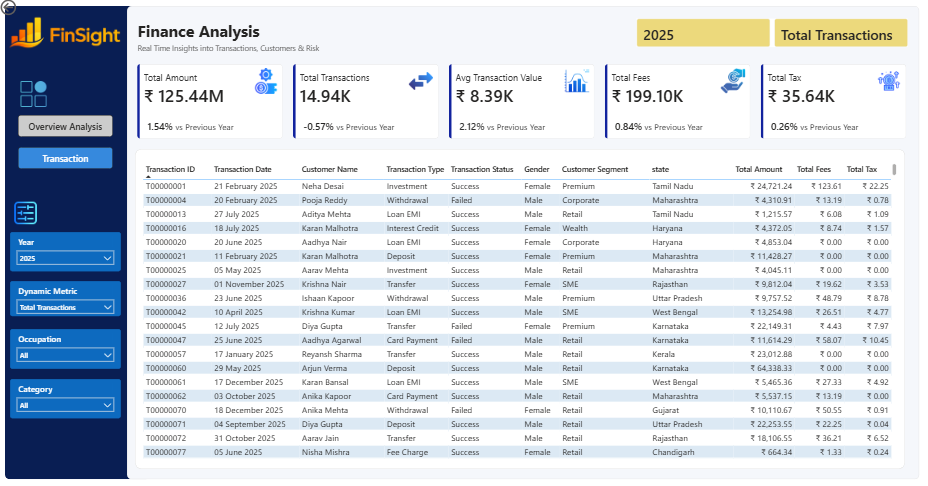

The dashboard page shown, as its layout file describes it:
{"tool":"powerbi","page":{"name":"Transaction","canvas":[1800,950],"ordinal":1},"visuals":[{"type":"shape","box":[14,18,280,914],"z":0},{"type":"shape","box":[250,18,1530,914],"z":1000},{"type":"image","box":[14,18,236,104],"z":2000},{"type":"cardVisual","fields":{"Data":["finance_transactions.Dashboard Title"]},"box":[264,28,404,94],"z":3000},{"type":"cardVisual","fields":{"Data":["finance_transactions.Total Amount","finance_transactions.Total Transactions","finance_transactions.Avg Transaction Value","finance_transactions.Total Fee","finance_transactions.Total Tax"]},"box":[263.5,122.7,1500.3,156.9],"z":4000},{"type":"image","box":[491.7,136.7,50,50],"z":5000},{"type":"image","box":[792.2,136.7,50,50],"z":6000},{"type":"image","box":[1394.1,137.1,50,50],"z":7000},{"type":"image","box":[1695.6,136.7,50,50],"z":8000},{"type":"image","box":[1092.9,137.1,50,50],"z":9000},{"type":"shape","box":[264.5,293.5,1486.8,617.9],"z":10000},{"type":"cardVisual","fields":{"Data":["finance_transactions.Selected Year","finance_transactions.Selected Dynamic Measure"]},"box":[1227.6,36.8,535.5,65.8],"z":11000},{"type":"tableEx","fields":{"Values":["finance_transactions.transaction_id","finance_transactions.transaction_date","customers.customer_name","finance_transactions.transaction_type","finance_transactions.transaction_status","customers.gender","customers.customer_segment","customers.state","finance_transactions.Total Amount","finance_transactions.Total Fees","finance_transactions.Total Tax"]},"box":[274.2,316.7,1465.5,579.3],"z":12000},{"type":"actionButton","box":[0,0,100,40],"z":13000},{"type":"slicer","fields":{"Values":["Calendar Table.Year"]},"box":[23.2,453.8,213.6,76.4],"z":14000},{"type":"slicer","fields":{"Values":["Dynamic Metric.Dynamic Metric"]},"box":[23.2,548.4,214.3,67.6],"z":15000},{"type":"slicer","fields":{"Values":["customers.occupation"]},"box":[23.2,641.1,214.3,77.2],"z":16000},{"type":"slicer","fields":{"Values":["finance_transactions.merchant_category"]},"box":[23.2,737.6,213.6,76.4],"z":17000},{"type":"image","box":[38.6,162.2,59.9,50.2],"z":18000},{"type":"pageNavigator","box":[38.6,227.8,183.4,104.3],"z":19000},{"type":"image","box":[23.2,392,59.9,50.2],"z":20000}]}

Visuals, with their boxes on the page's 1800x950 design canvas (x1, y1, x2, y2). These are canvas units, not pixel positions in the 928x486 screenshot, which may show the page scaled, cropped or inside an application window:
shape: pyautogui.locateOnScreen(14, 18, 294, 932)
shape: pyautogui.locateOnScreen(250, 18, 1780, 932)
image: pyautogui.locateOnScreen(14, 18, 250, 122)
cardVisual - finance_transactions.Dashboard Title: pyautogui.locateOnScreen(264, 28, 668, 122)
cardVisual - finance_transactions.Total Amount x finance_transactions.Total Transactions: pyautogui.locateOnScreen(264, 123, 1764, 280)
image: pyautogui.locateOnScreen(492, 137, 542, 187)
image: pyautogui.locateOnScreen(792, 137, 842, 187)
image: pyautogui.locateOnScreen(1394, 137, 1444, 187)
image: pyautogui.locateOnScreen(1696, 137, 1746, 187)
image: pyautogui.locateOnScreen(1093, 137, 1143, 187)
shape: pyautogui.locateOnScreen(264, 294, 1751, 911)
cardVisual - finance_transactions.Selected Year x finance_transactions.Selected Dynamic Measure: pyautogui.locateOnScreen(1228, 37, 1763, 103)
tableEx - finance_transactions.transaction_id x finance_transactions.transaction_date: pyautogui.locateOnScreen(274, 317, 1740, 896)
actionButton: pyautogui.locateOnScreen(0, 0, 100, 40)
slicer - Calendar Table.Year: pyautogui.locateOnScreen(23, 454, 237, 530)
slicer - Dynamic Metric.Dynamic Metric: pyautogui.locateOnScreen(23, 548, 238, 616)
slicer - customers.occupation: pyautogui.locateOnScreen(23, 641, 238, 718)
slicer - finance_transactions.merchant_category: pyautogui.locateOnScreen(23, 738, 237, 814)
image: pyautogui.locateOnScreen(39, 162, 98, 212)
pageNavigator: pyautogui.locateOnScreen(39, 228, 222, 332)
image: pyautogui.locateOnScreen(23, 392, 83, 442)
